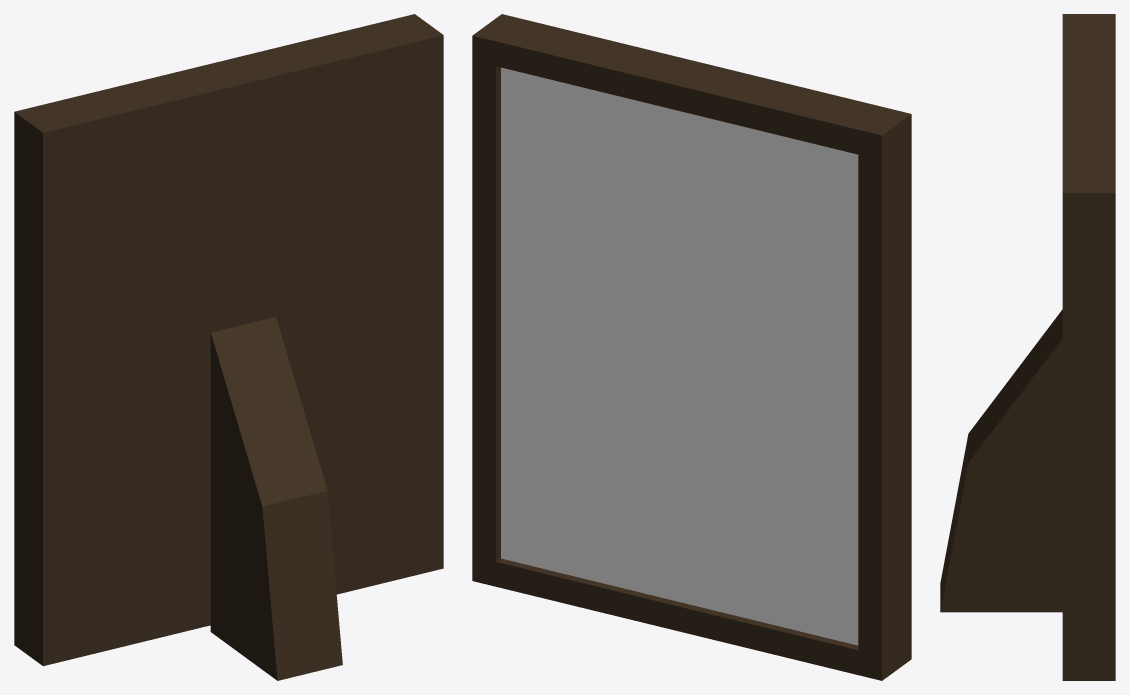
Rendered from Mirror.glb.
The picture shows the model from 3 angles, left to right: view 1: azimuth 30°, elevation 25°; view 2: azimuth 150°, elevation 25°; view 3: azimuth 270°, elevation 25°; orthographic projection. The views are drawn at different scales.
Visible parts, largest first — view 1: Mirror; view 2: Mirror; view 3: Mirror.
Boxes of the visible parts, x1,y1,x2,y2 form: Mirror: (14,14,443,680); Mirror: (472,14,911,680); Mirror: (940,14,1115,680).
Bounding box in the file's own units: 0.5374 × 0.6922 × 0.2224.
1 material, 1 textured.
